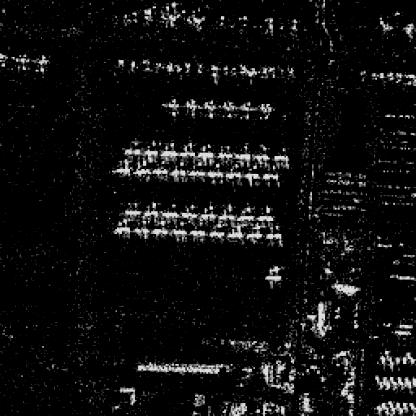airplane: (159, 96, 182, 120), (32, 52, 51, 73), (265, 263, 284, 281), (10, 52, 29, 70), (182, 99, 200, 117), (148, 219, 167, 236), (253, 146, 273, 162), (216, 145, 236, 161), (255, 206, 273, 223), (240, 99, 257, 117), (262, 224, 281, 240), (122, 140, 141, 156), (224, 224, 244, 239), (175, 141, 195, 156), (112, 218, 130, 234), (122, 202, 140, 218), (208, 161, 224, 179), (262, 164, 280, 180), (272, 148, 290, 164), (206, 223, 226, 237), (234, 145, 250, 162), (169, 221, 187, 236), (203, 99, 218, 117), (142, 202, 158, 218), (161, 202, 177, 218), (179, 203, 195, 219), (198, 203, 214, 219), (135, 160, 151, 176), (226, 162, 242, 178), (161, 143, 177, 159), (221, 101, 237, 117), (258, 101, 274, 117), (237, 206, 254, 221), (245, 224, 262, 239), (195, 145, 213, 159), (132, 221, 148, 236), (153, 159, 169, 174), (245, 164, 260, 180), (143, 143, 159, 158), (117, 159, 132, 174), (218, 205, 234, 219), (171, 162, 187, 176), (188, 163, 204, 177), (188, 223, 204, 236), (140, 58, 151, 70), (153, 60, 164, 72), (229, 65, 239, 76), (115, 57, 125, 67), (237, 63, 247, 73), (247, 66, 257, 76), (393, 354, 400, 368), (166, 60, 174, 72), (174, 60, 182, 72), (210, 64, 218, 76), (182, 61, 190, 72), (221, 65, 229, 76), (387, 354, 393, 368), (128, 60, 136, 70), (260, 66, 268, 76), (268, 67, 275, 78), (375, 404, 382, 414), (380, 401, 387, 411), (401, 401, 408, 411), (388, 375, 395, 385), (379, 353, 385, 364), (388, 406, 396, 414), (195, 63, 201, 73), (386, 400, 392, 410), (382, 374, 388, 384), (396, 374, 402, 384), (405, 349, 411, 359), (385, 380, 392, 388), (408, 401, 413, 411), (393, 378, 398, 388), (403, 375, 408, 385), (397, 406, 403, 414), (374, 374, 380, 382), (377, 380, 383, 388), (384, 348, 388, 359), (395, 402, 400, 410), (406, 380, 411, 388), (402, 354, 406, 364), (384, 406, 388, 414)
